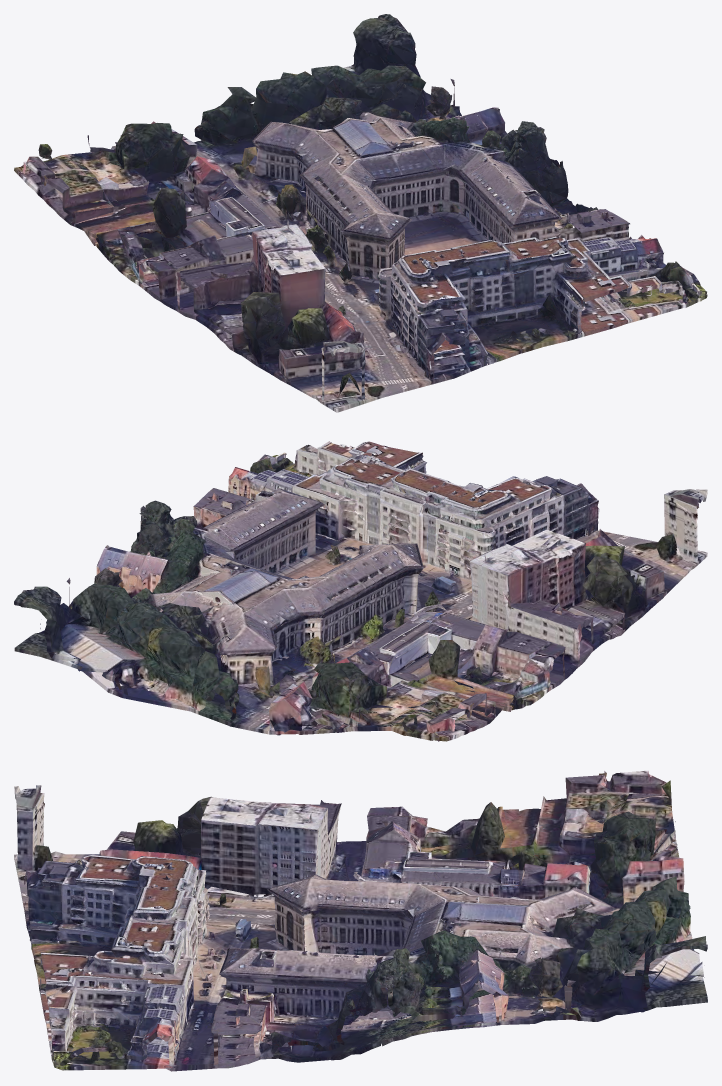
The model's file is ACE.gltf.
3 renders of one model, top to bottom at view 1: azimuth 30°, elevation 25°; view 2: azimuth 150°, elevation 25°; view 3: azimuth 270°, elevation 25°, orthographic. The views are drawn at different scales.
Parts seen in each view (by area): view 1: mesh_0 (×13), mesh_0_1 (×6); view 2: mesh_0 (×13), mesh_0_1 (×7); view 3: mesh_0 (×13), mesh_0_1 (×6).
Boxes of the visible parts, box(x1,y1,x2,y2) form: mesh_0 (×13): box(14, 14, 707, 412); mesh_0_1 (×6): box(21, 112, 707, 400); mesh_0 (×13): box(14, 441, 707, 741); mesh_0_1 (×7): box(169, 441, 707, 741); mesh_0 (×13): box(14, 770, 707, 1071); mesh_0_1 (×6): box(15, 771, 675, 1070).
Bounding box in the file's own units: 0.6186 × 0.1363 × 0.7568.
Materials: 20 (20 with a texture image).
